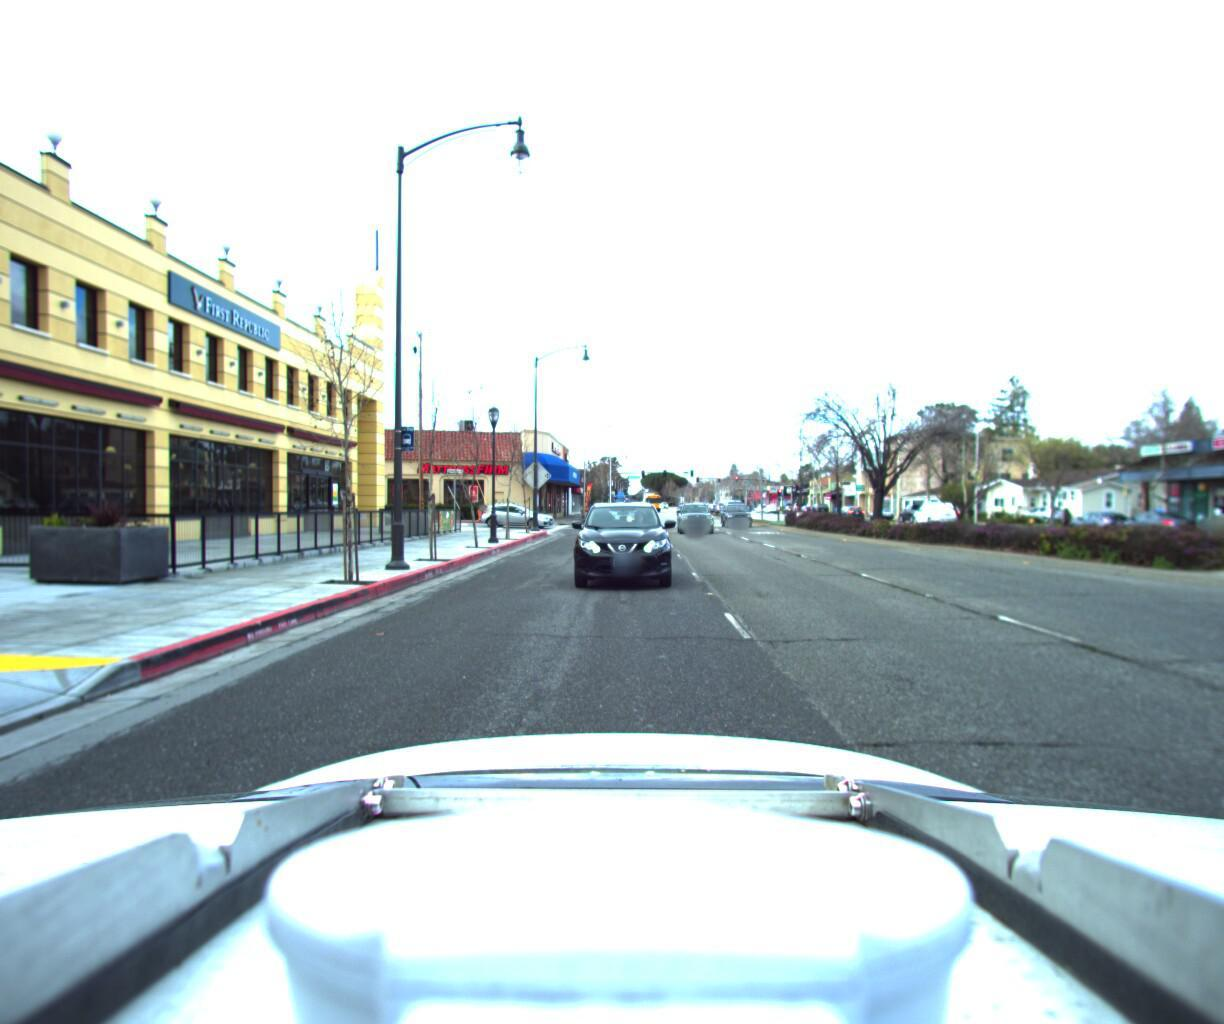car: (570, 497, 673, 598), (1108, 503, 1208, 537), (1060, 502, 1137, 532), (467, 495, 547, 523), (679, 496, 718, 529), (906, 497, 955, 523), (1014, 497, 1074, 518), (719, 493, 757, 522), (865, 500, 895, 514), (836, 500, 863, 514)
